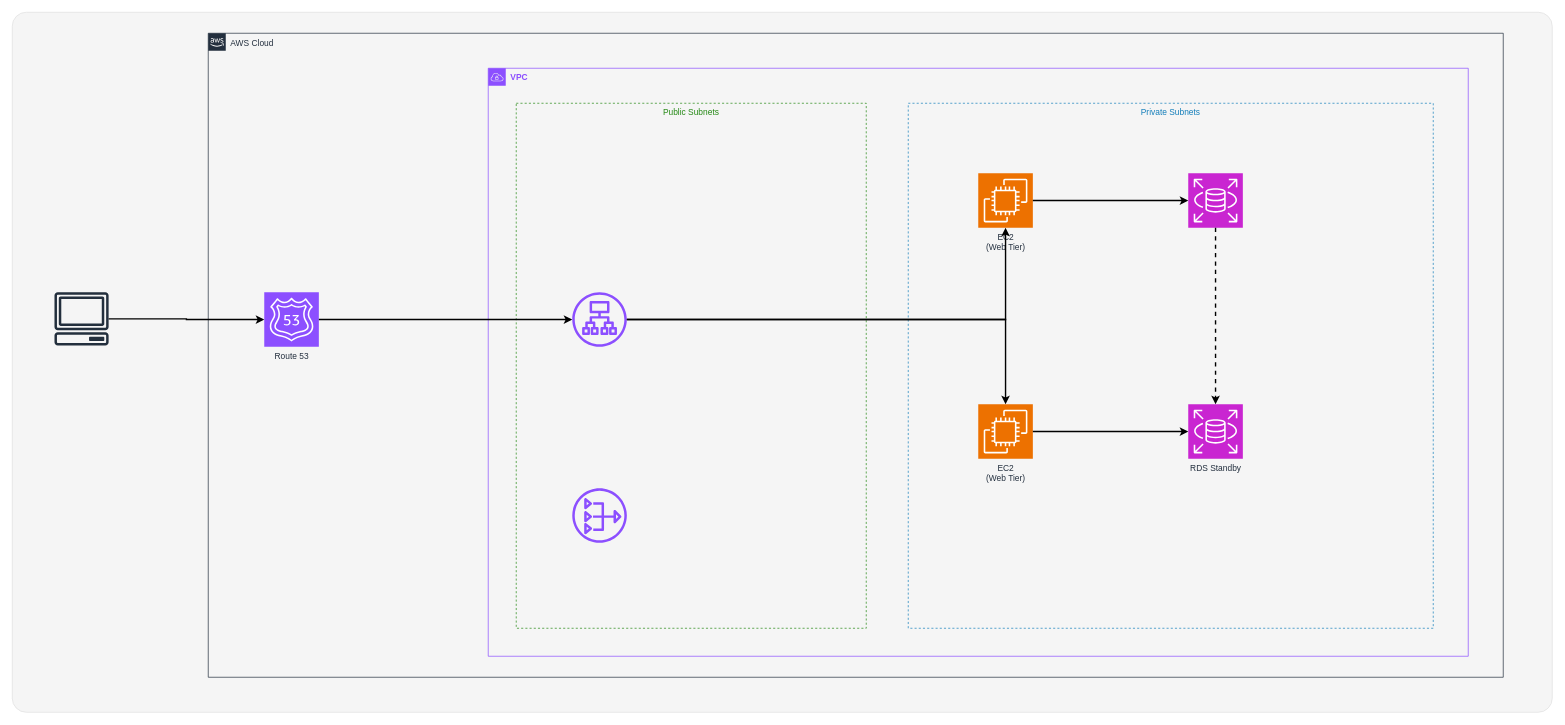
This 1565x725 diagram has some shape labels left out. Here are the shapes that lost their labels. From the top down, the centre of each, then its label:
(1215,200): RDS Primary
(81,318): Users
(599,319): ALB
(599,515): NAT Gateway
